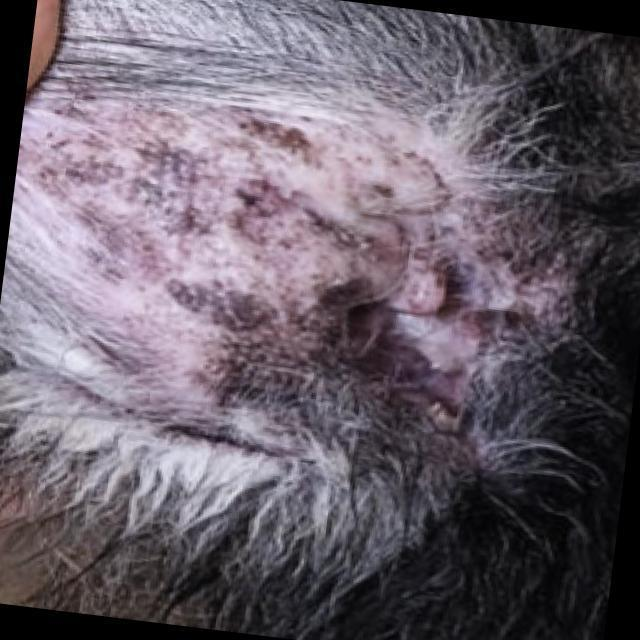fungal infection: (19, 112, 343, 258), (394, 244, 539, 346), (153, 267, 301, 351), (203, 372, 356, 444), (358, 138, 461, 243), (390, 366, 486, 444)
